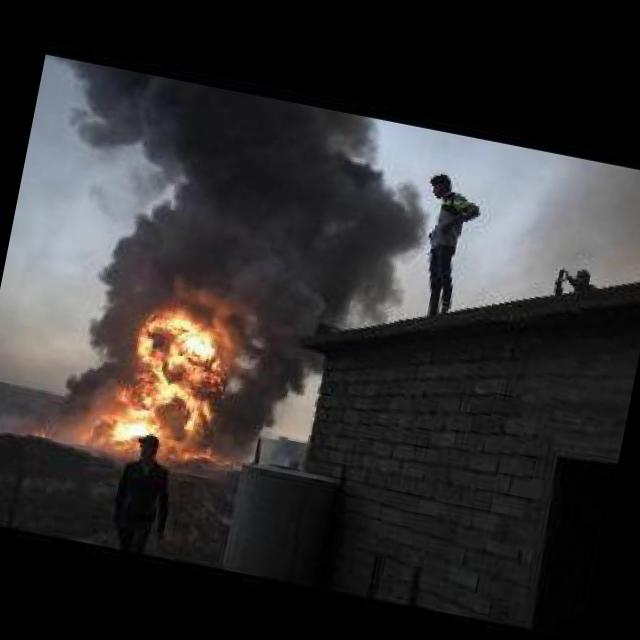fire: (84, 278, 248, 471), (34, 425, 49, 436)
smoke: (4, 52, 442, 348)
